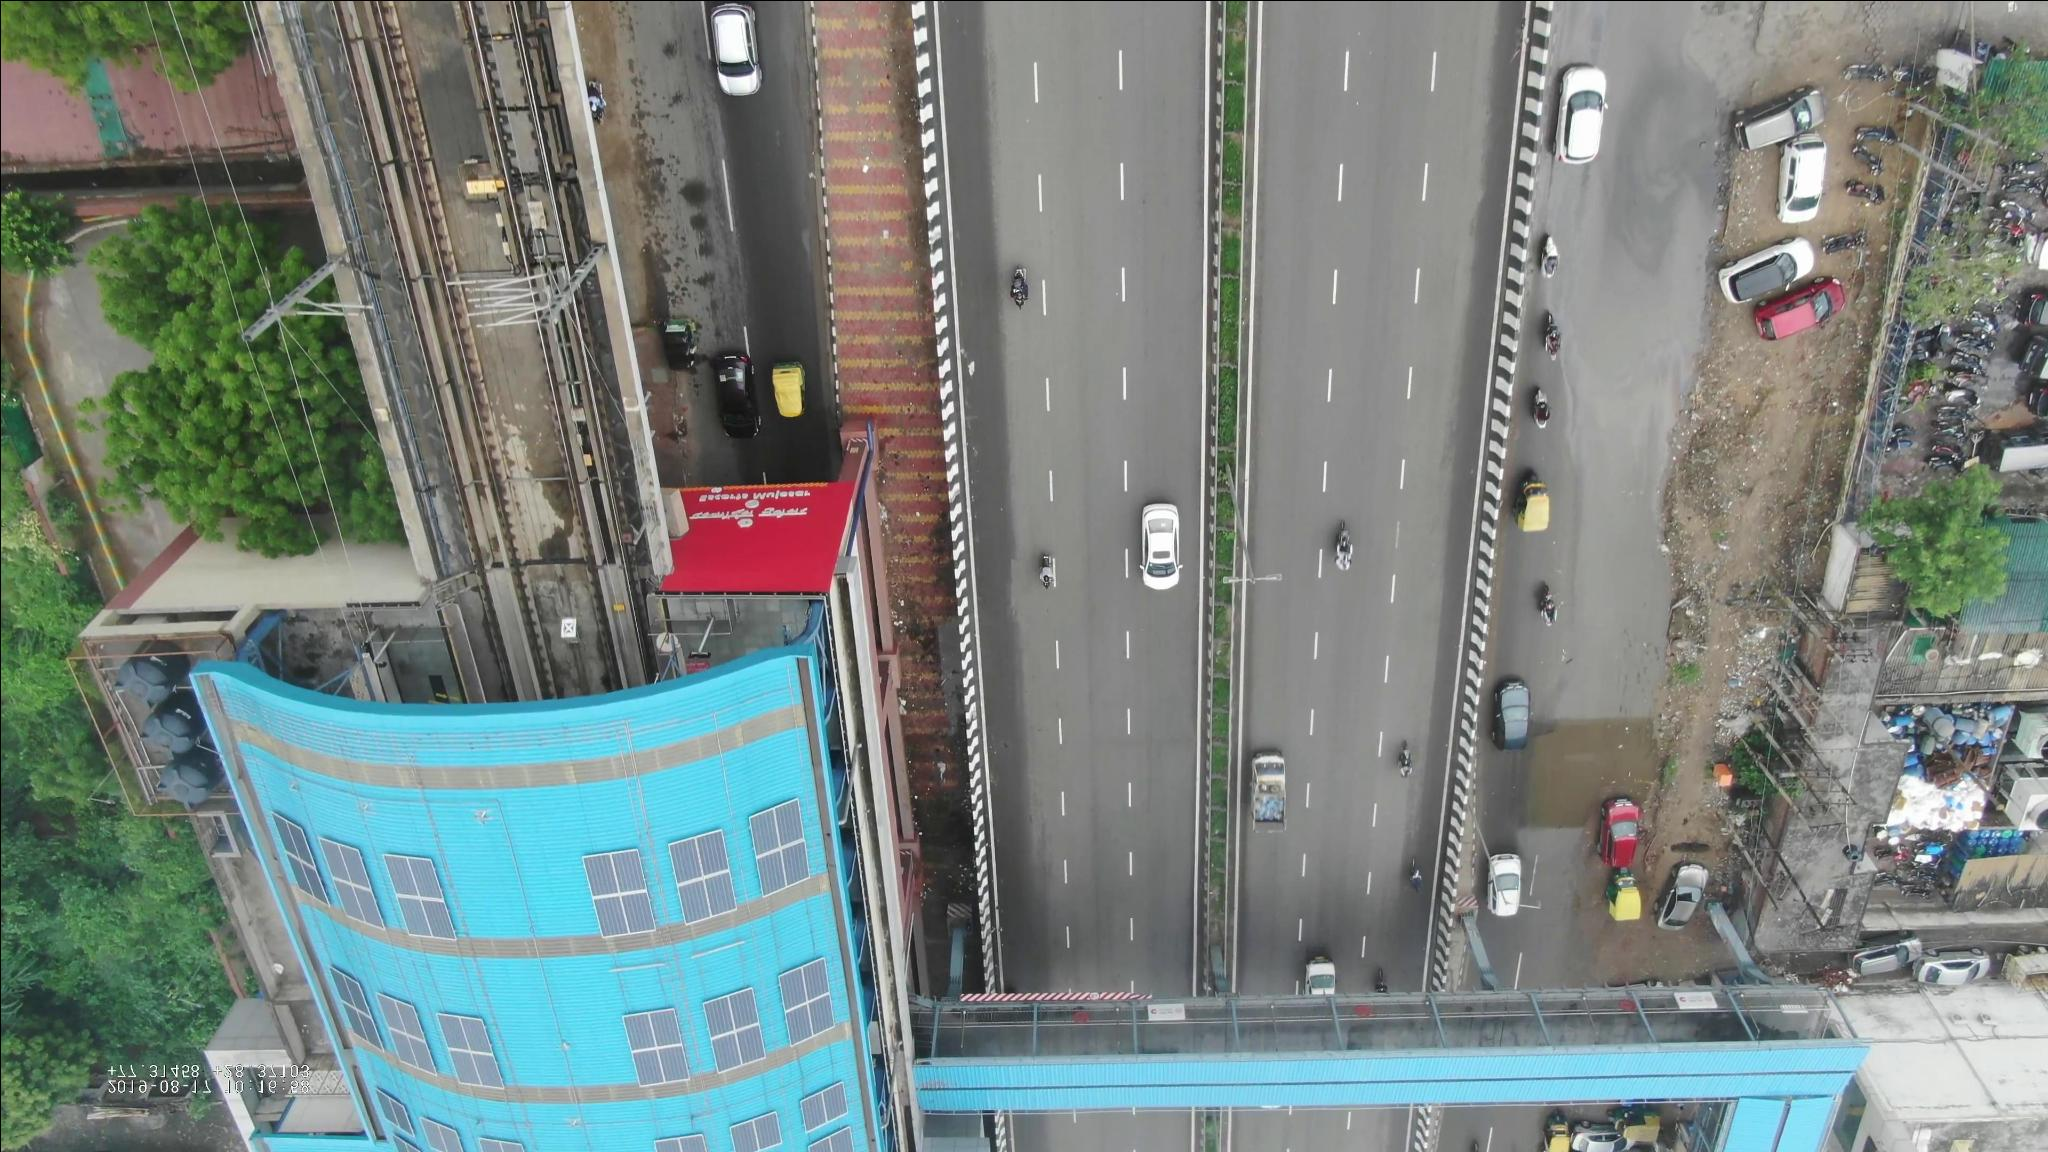Waterlogging: (1556, 241, 1684, 653), (1512, 667, 1658, 843)
